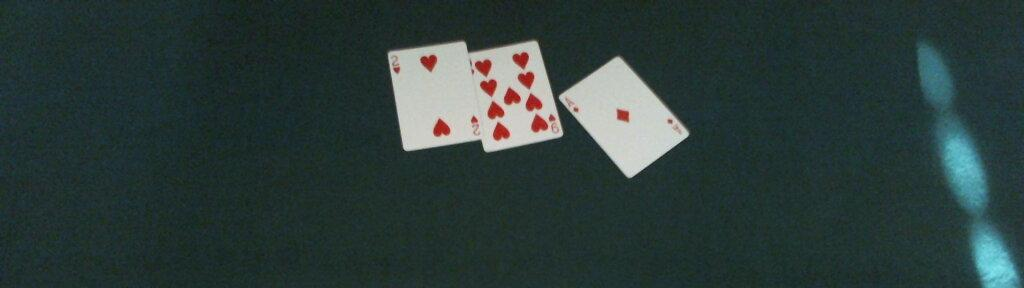ace: (558, 56, 689, 178)
nine: (468, 39, 564, 152)
two: (386, 39, 483, 151)
